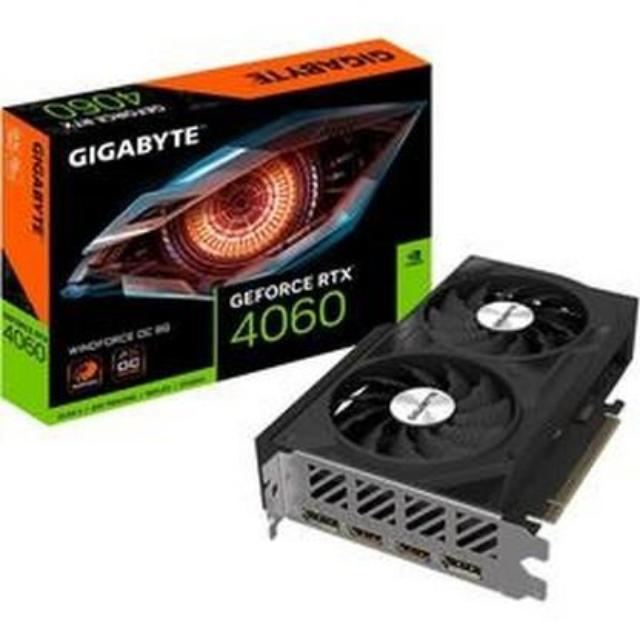GPU: (247, 246, 638, 598)
